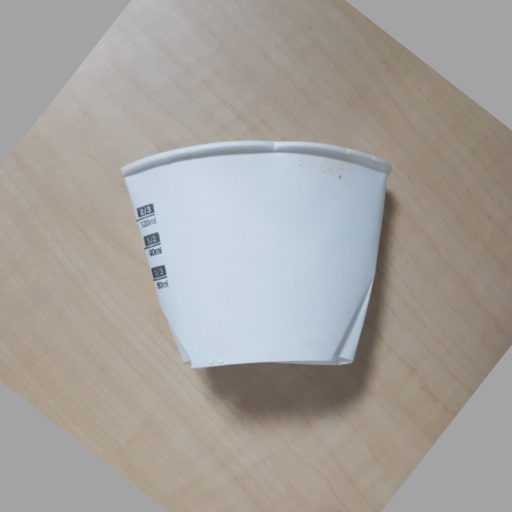Paper_1: (117, 136, 392, 375)
